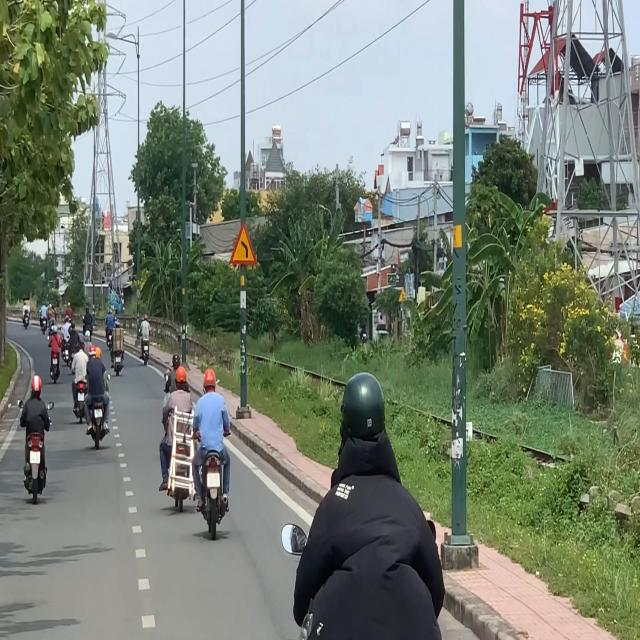Nguy hiem: (229, 222, 257, 264)
